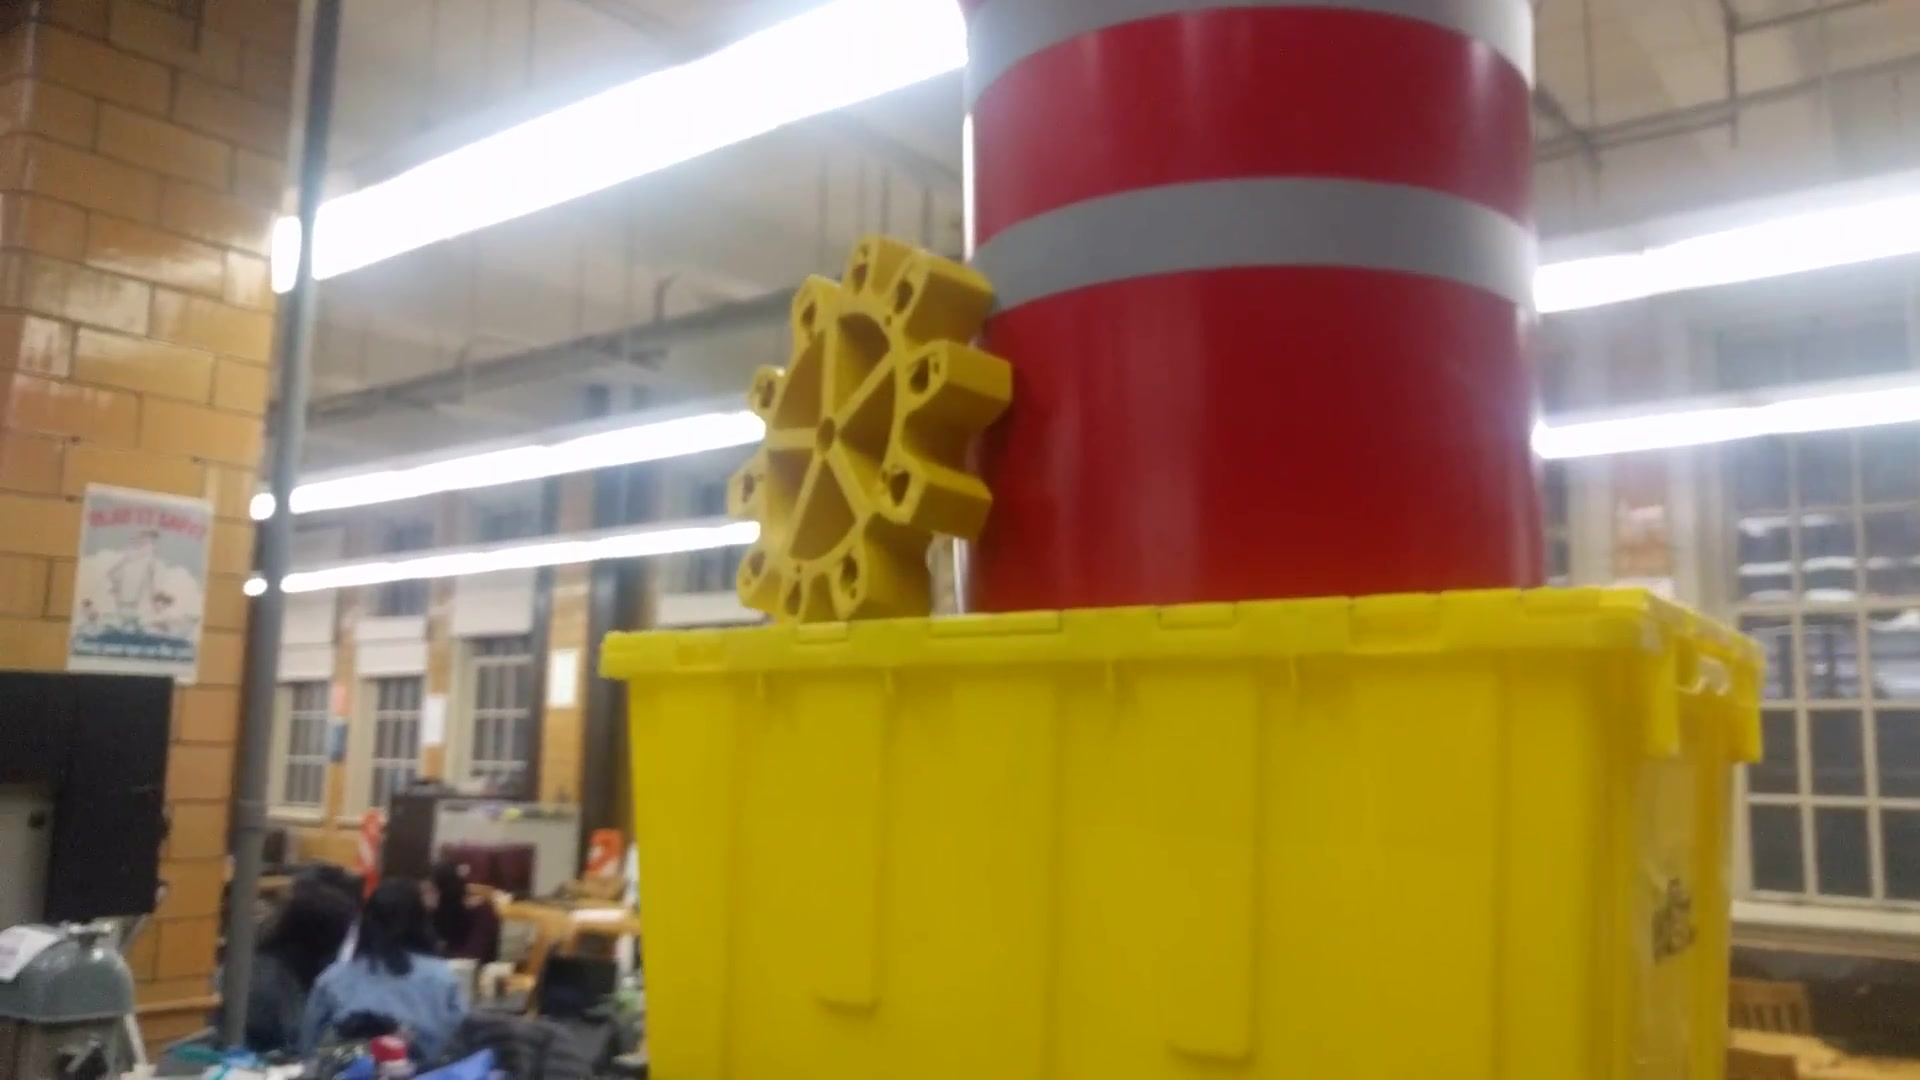gear: (719, 229, 1017, 621)
